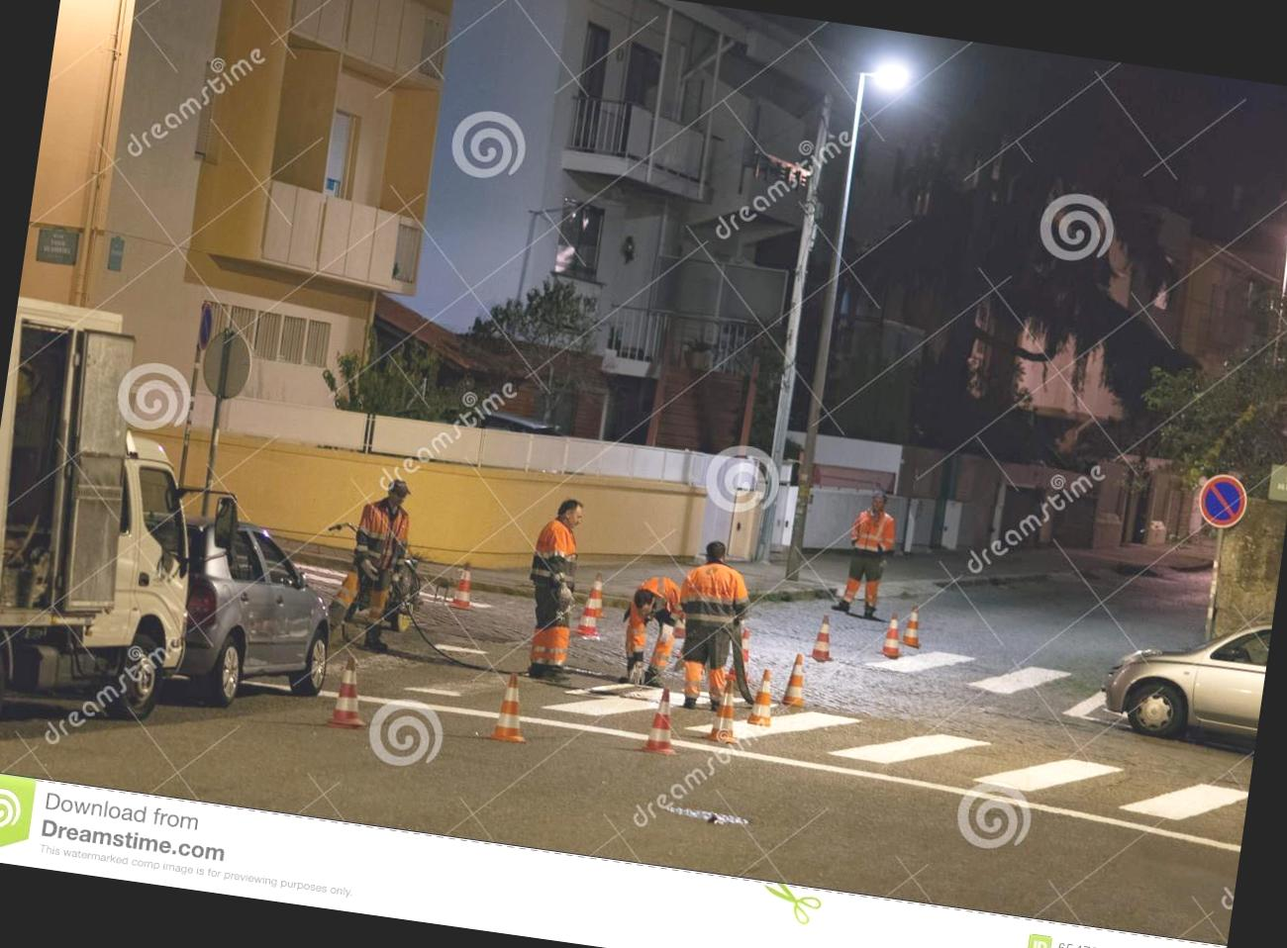person: (509, 474, 605, 689), (661, 527, 768, 707), (341, 472, 423, 652), (827, 477, 910, 623), (613, 568, 690, 689)
